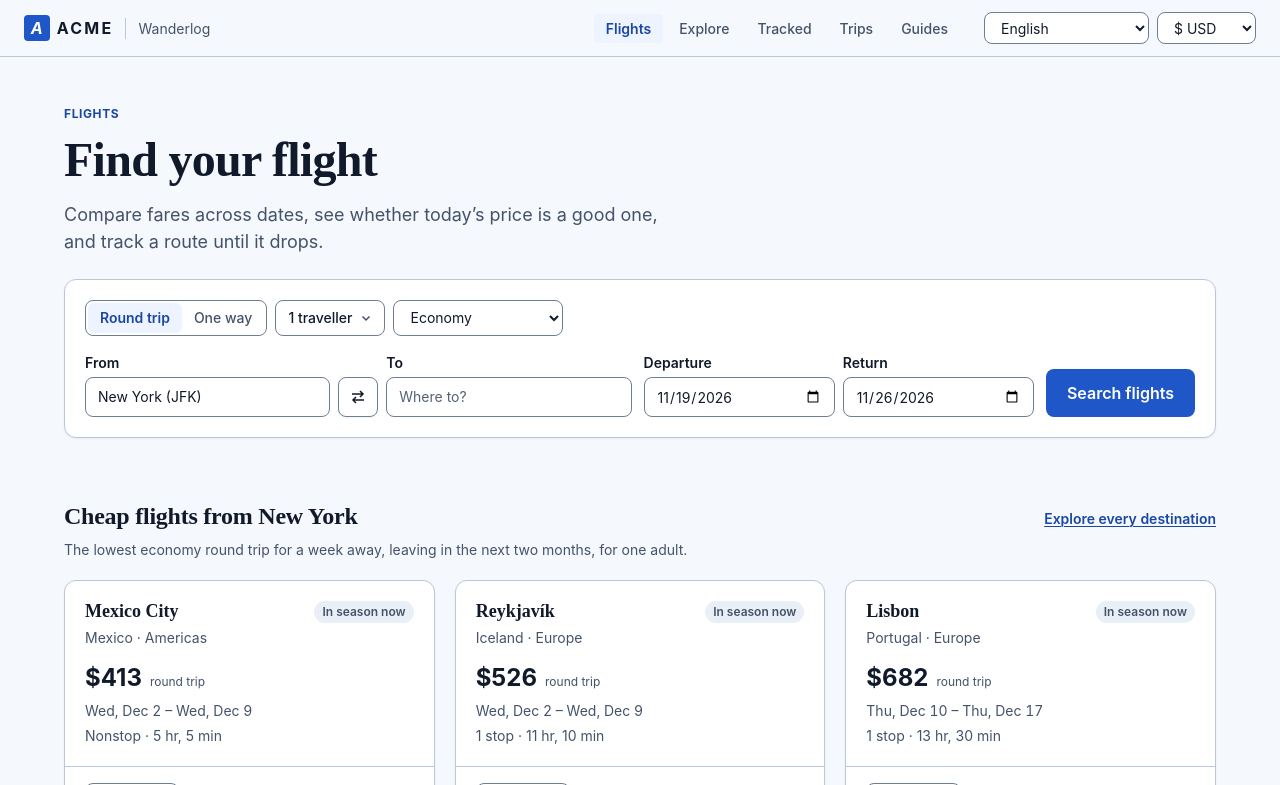
Test: Wanderlog › browses, filters and opens a destination
Step 1. Click the link "Guides" → (925,29), box x1=901 y1=20 x2=948 y2=37
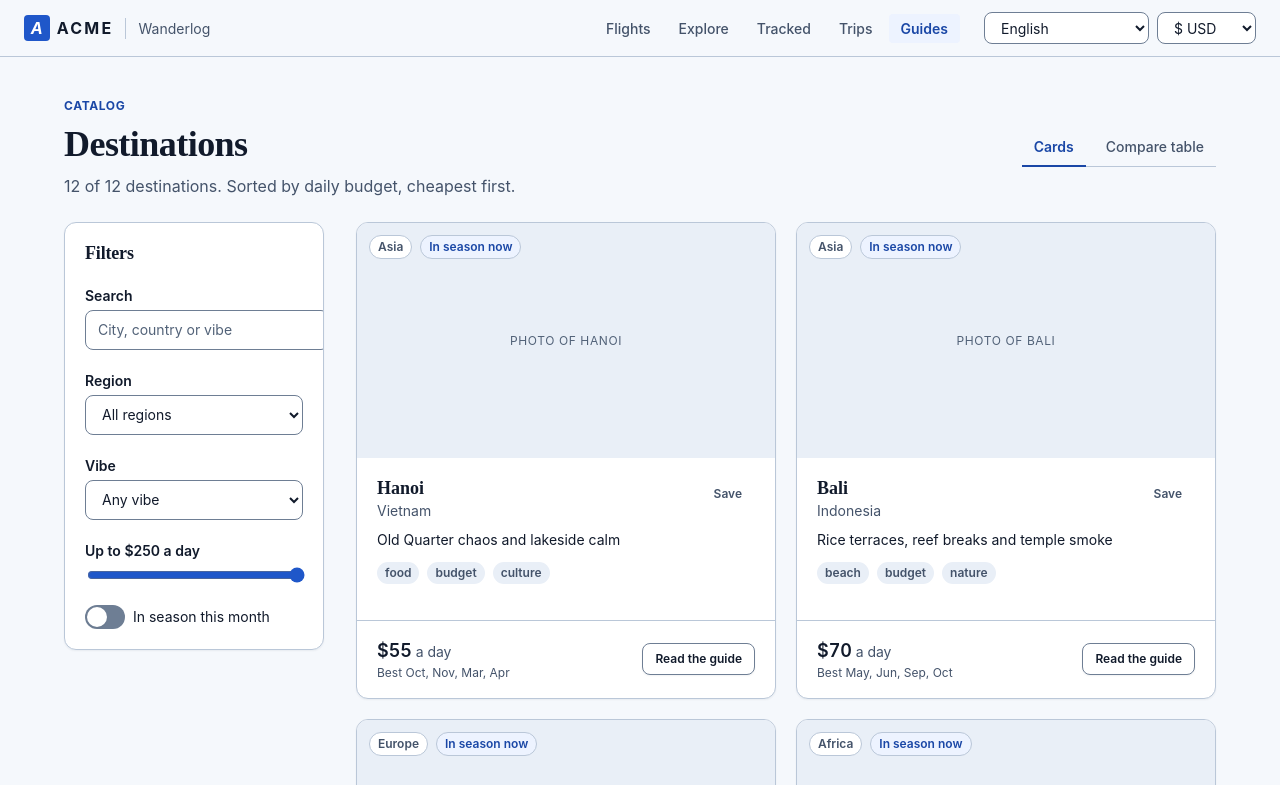
Check: the number of elements with class "destination-card" is 12
Step 2. Type "japan" into the search field with id "f-query" → (207,330), box x1=85 y1=310 x2=329 y2=350
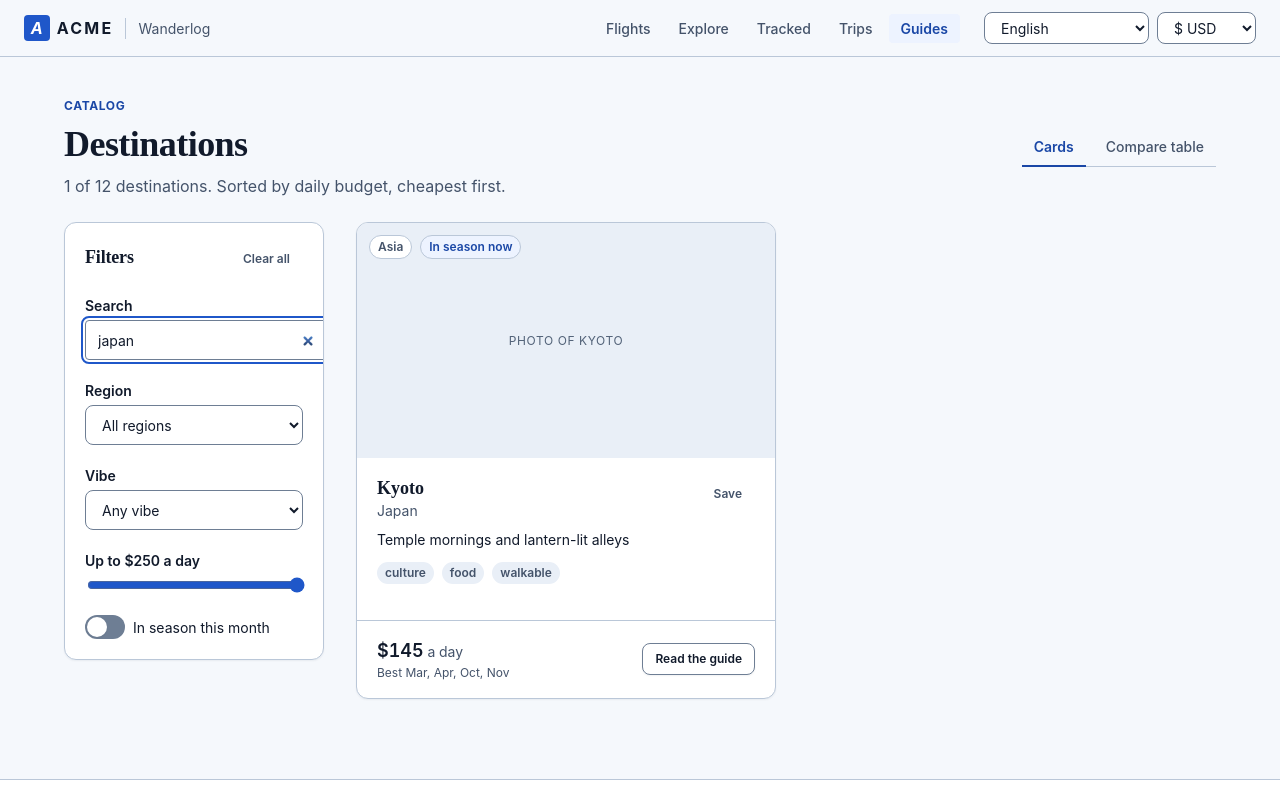
Check: the text "Kyoto" is shown, box x1=509 y1=333 x2=624 y2=348
Check: the number of elements with class "destination-card" is 1, box x1=356 y1=222 x2=776 y2=699
Step 3. Click the button "Clear all" → (267,259), box x1=230 y1=243 x2=303 y2=275
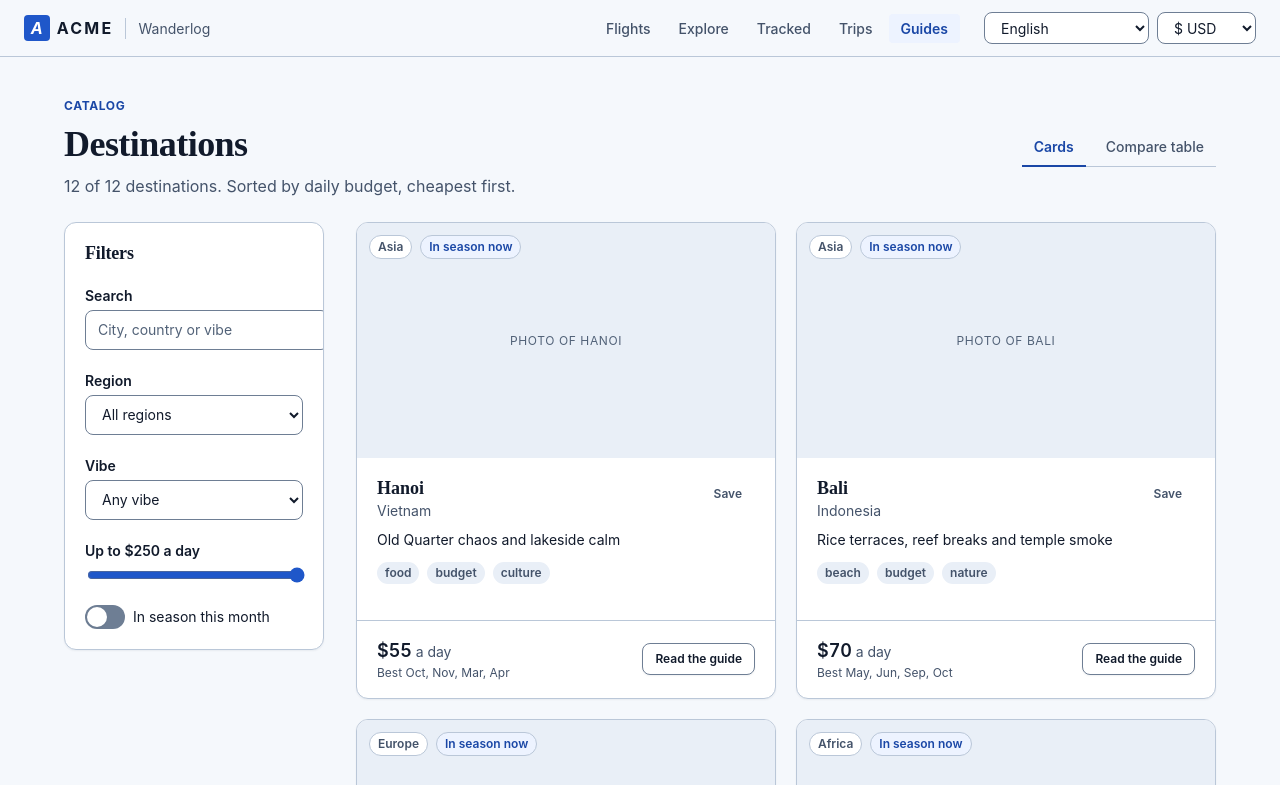
Check: the number of elements with class "destination-card" is 12
Step 4. Select "Europe" in the dropdown with id "f-region" → (194,415), box x1=85 y1=395 x2=303 y2=435
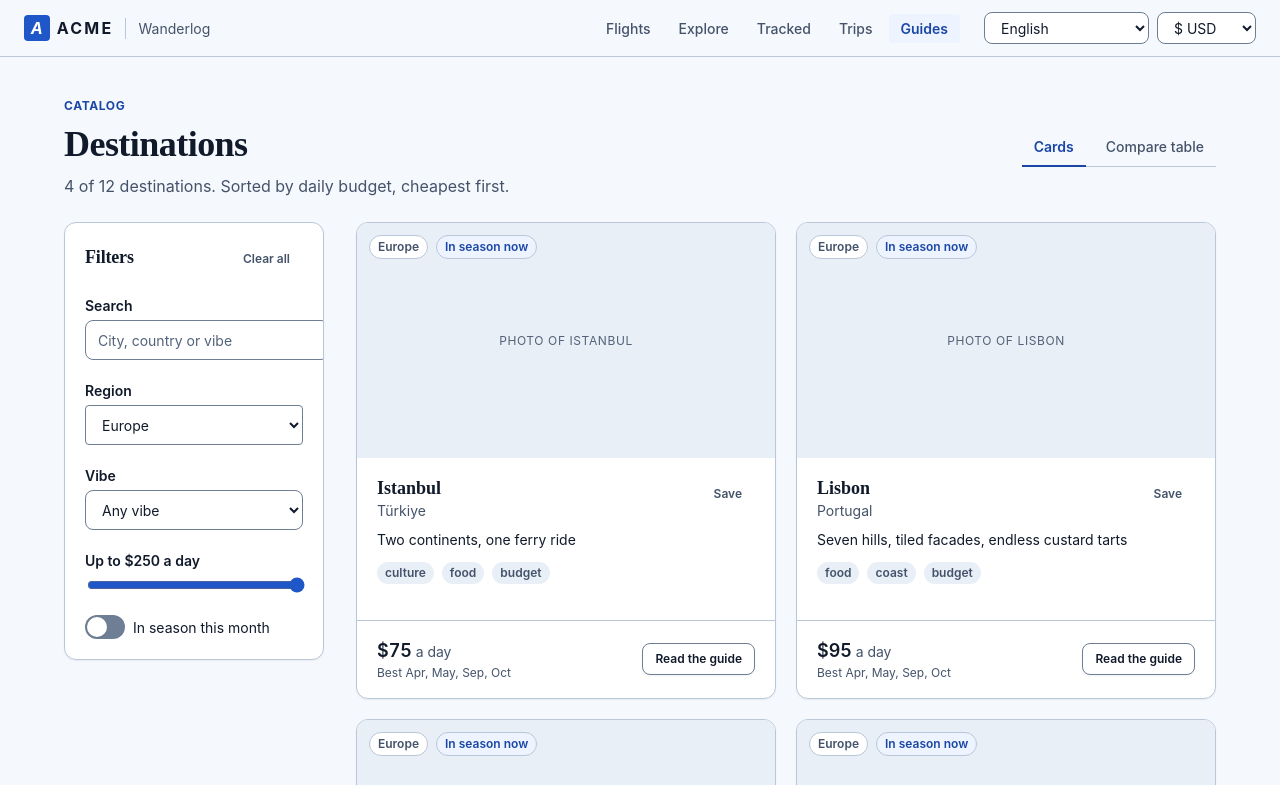
Check: the number of elements with class "destination-card" is fewer than 12
Step 5. Click the link "Read the guide" in the row of "$95" → (1139,659), box x1=1082 y1=643 x2=1195 y2=675
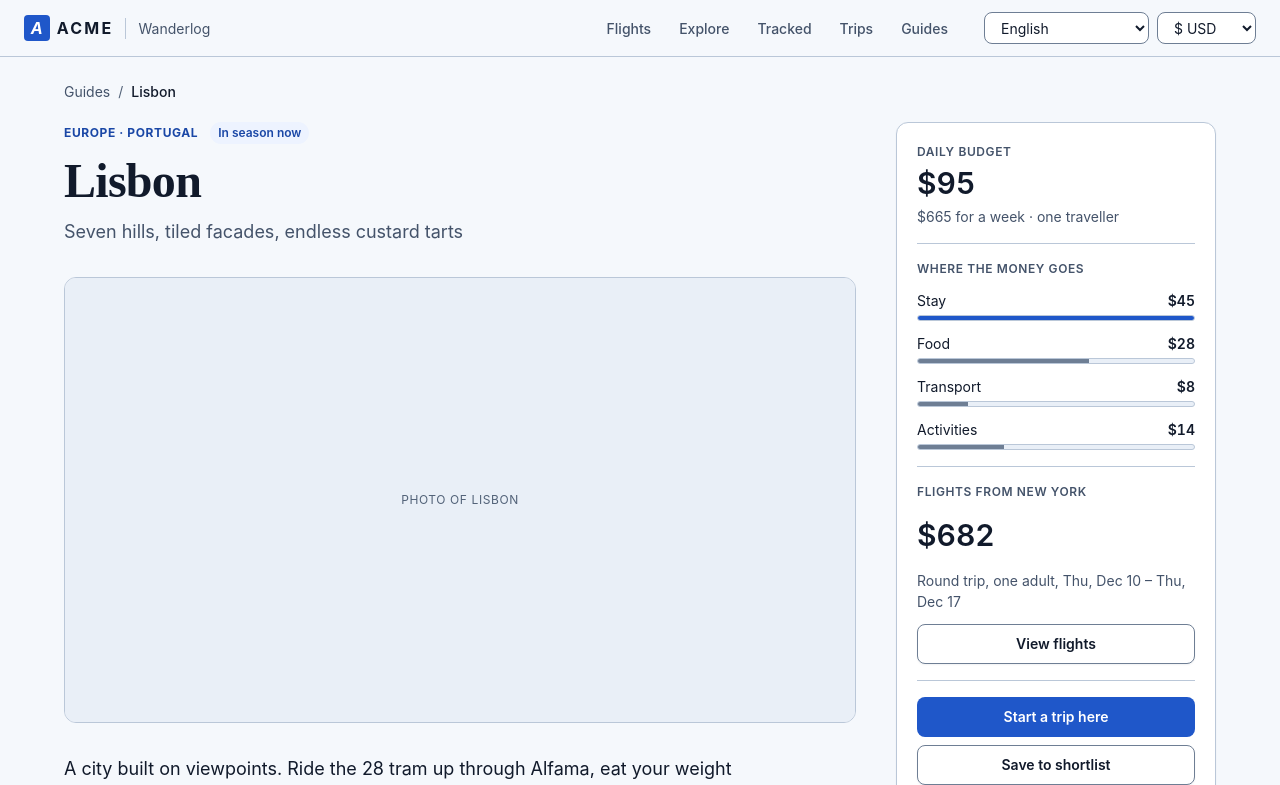
Check: the heading "Lisbon" is shown, box x1=64 y1=154 x2=201 y2=207
